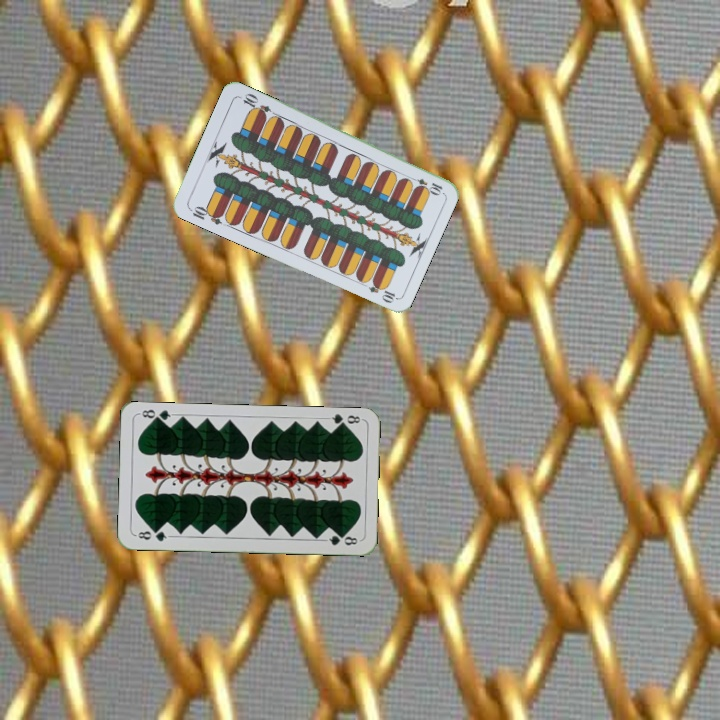E10: (185, 202, 226, 227), (405, 173, 445, 196)
G8: (324, 410, 362, 430), (132, 526, 172, 544)
